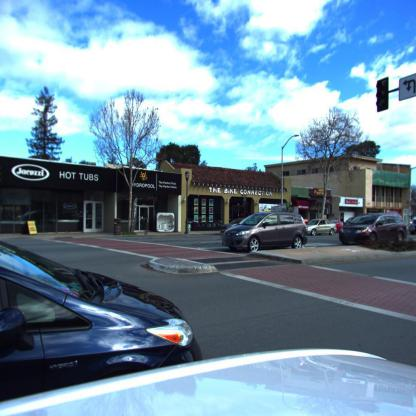car: (0, 233, 206, 416), (222, 211, 308, 253), (337, 215, 408, 247), (306, 219, 340, 236)
sign: (395, 71, 416, 102)
traffic light: (376, 78, 389, 114)
